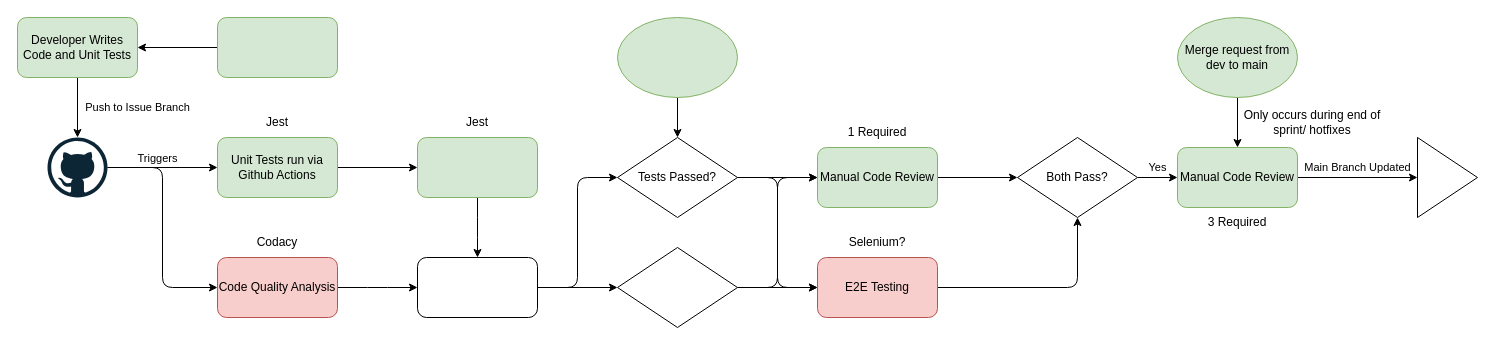
Some shapes in this 1495 by 345 pixel diagram are drawn without their labels. Each missing label, with the box of its shape:
Aggregated Results: (416, 256, 538, 318)
Codacy Happy?: (616, 246, 738, 328)
Code Styling via Code Style Guide and VSCode Prettier: (216, 16, 338, 78)
Integration Tests run via Github Actions: (416, 136, 538, 198)
Pull Request from issue branch to dev: (616, 16, 738, 98)
